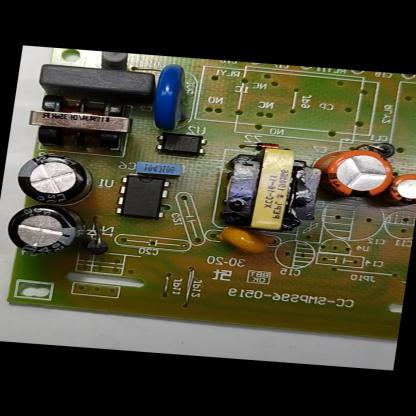Cap1: (311, 141, 401, 203)
Cap2: (385, 171, 416, 208)
Cap3: (12, 150, 100, 209)
Cap4: (2, 202, 92, 260)
MOSFET: (111, 168, 176, 224)
Mov: (140, 60, 197, 136)
Resistor: (96, 51, 134, 68)
Transformer: (213, 141, 328, 240), (19, 90, 139, 158)
